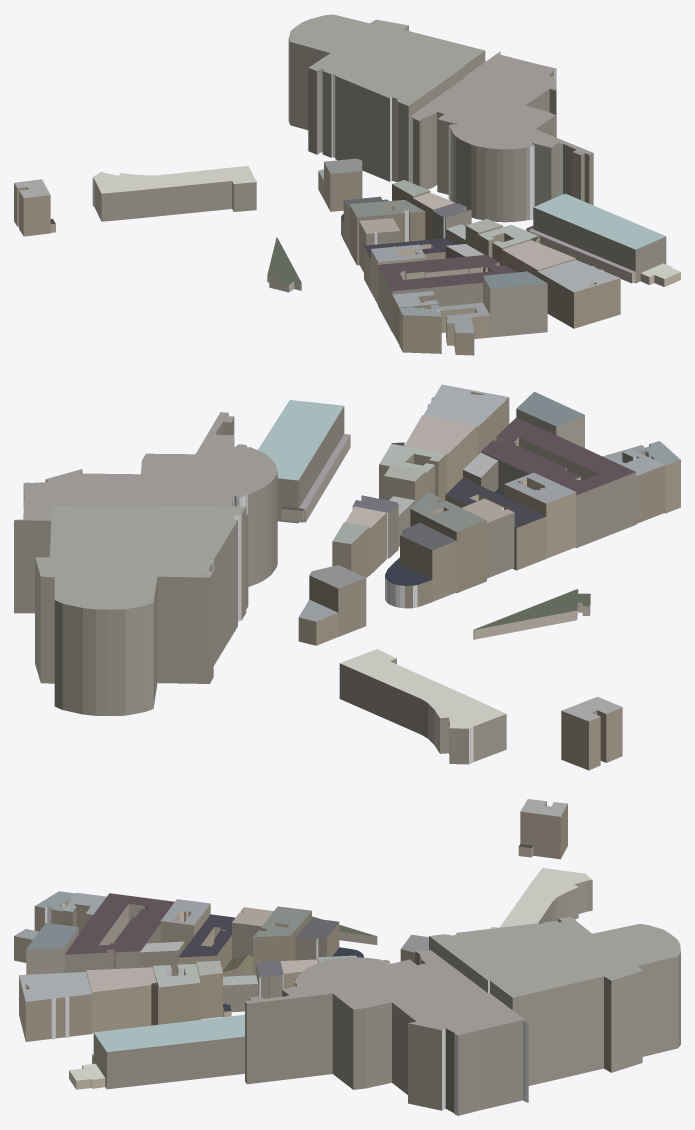
3 views of the same model, one above another, from view 1: azimuth 30°, elevation 25°; view 2: azimuth 150°, elevation 25°; view 3: azimuth 270°, elevation 25° (orthographic). The views are drawn at different scales.
Parts seen in each view (by area): view 1: tuile; view 2: tuile; view 3: tuile.
Boxes of the visible parts, box(x1,y1,x2,y2) form: tuile: box(14, 14, 680, 355); tuile: box(14, 384, 680, 770); tuile: box(14, 799, 680, 1115).
Size of the model in its own units: 294 by 51 by 307.
